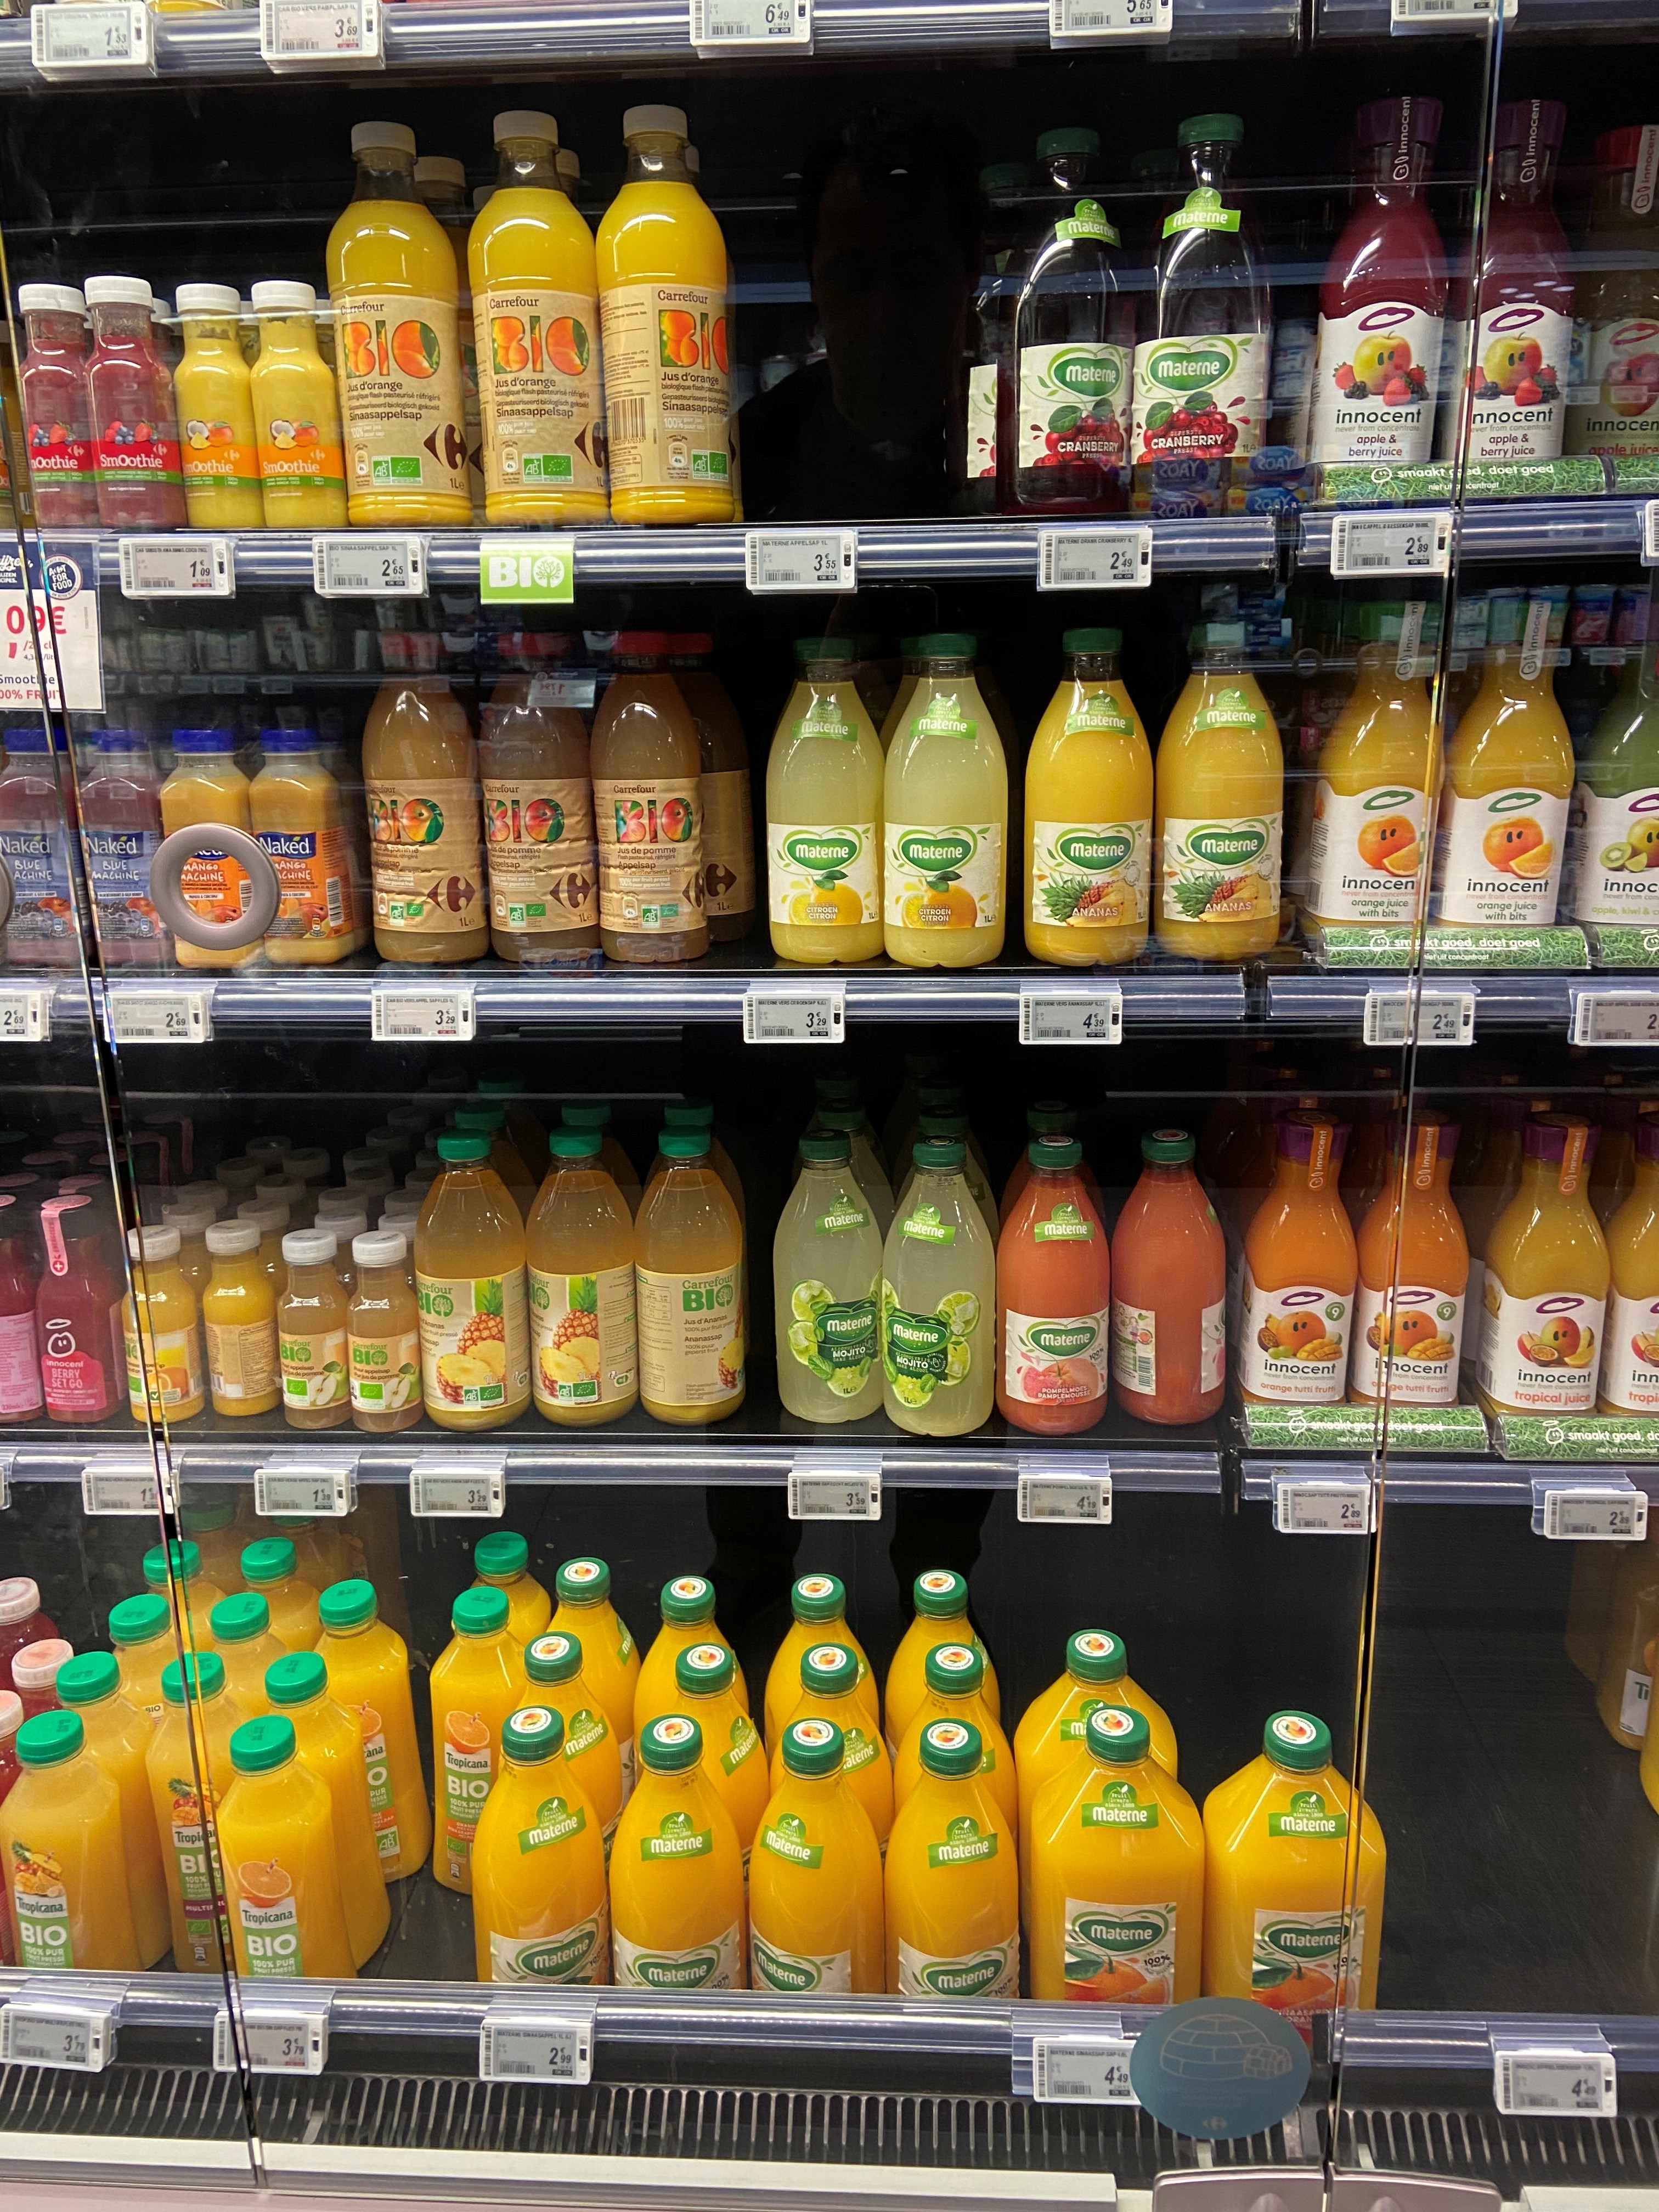CarrefourBioAnanassap: (636, 1123, 748, 1425), (526, 1120, 634, 1425), (420, 1125, 526, 1433)
CarrefourBioAppelsap1L: (364, 637, 490, 965), (591, 627, 711, 963), (484, 634, 596, 977)
CarrefourBioAppelsap25cl: (343, 1230, 423, 1430), (277, 1228, 352, 1430)
CarrefourBioSinaasappelsap1L: (322, 120, 474, 531), (469, 110, 610, 531), (596, 103, 735, 524)
CarrefourBioSinaasappelsap25cl: (115, 1224, 204, 1425), (202, 1219, 282, 1420)
CarrefourSmoothieAardbeiBlauweBessen: (84, 275, 185, 533), (5, 284, 106, 531)
CarrefourSmoothieKokosMango: (249, 280, 349, 533), (173, 282, 263, 542)
InnocentAppleBerry: (1295, 87, 1457, 505), (1439, 96, 1577, 493)
InnocentAppleKiwiCucumber: (1563, 587, 1659, 951)
InnocentBerrySetGo: (33, 1193, 125, 1432)
InnocentOrangeTuttiFrutti: (1241, 1106, 1359, 1420), (1358, 1113, 1473, 1426)
InnocentOrangeWithBits: (1443, 594, 1574, 954), (1314, 603, 1445, 946)
InnocentTropicalJuice: (1480, 1115, 1614, 1428)
MaterneAnanas: (1019, 627, 1155, 967), (1155, 622, 1284, 963)
MaterneCitroen: (762, 636, 889, 967), (884, 632, 1009, 967)
MaterneCranberry: (1134, 111, 1281, 526), (993, 124, 1138, 517)
MaterneMojito: (884, 1132, 997, 1437), (774, 1130, 884, 1425)
MaternePompelmoes: (1112, 1125, 1229, 1430), (997, 1129, 1112, 1437)
MaterneSinaasappel1,5L: (1202, 1709, 1389, 2027), (1030, 1702, 1204, 2038)
MaterneSinaasappel1L: (885, 1719, 1021, 2059), (746, 1716, 884, 2036), (472, 1705, 606, 2027), (610, 1712, 746, 2024)
NakedBlueMachine: (0, 728, 87, 975), (82, 726, 164, 975)
NakedMangoMachine: (253, 723, 364, 967), (164, 725, 253, 970)
TropicanaBioMultifruit: (0, 1707, 132, 2003)
TropicanaBioOrange: (214, 1712, 361, 2010), (430, 1588, 535, 1898)
